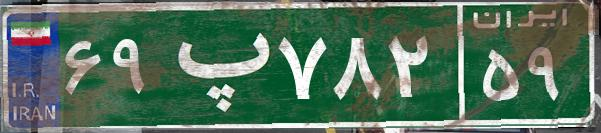2: (385, 28, 445, 110)
5: (475, 38, 525, 113)
6: (57, 26, 110, 107)
7: (273, 28, 330, 110)
8: (330, 28, 385, 110)
9: (110, 28, 158, 105), (525, 38, 570, 115)
پ: (158, 15, 273, 115)
